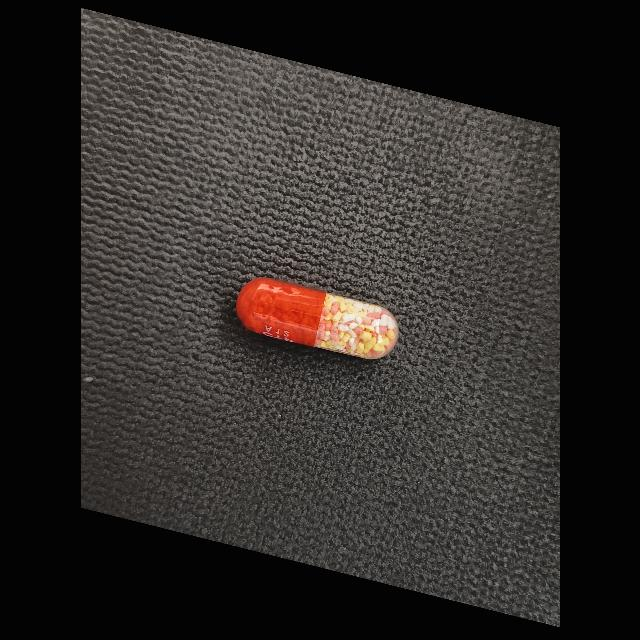Intact Capsule: (236, 278, 398, 359)
